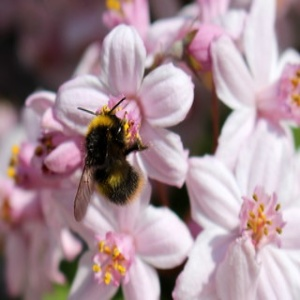bee: (73, 98, 144, 225)
